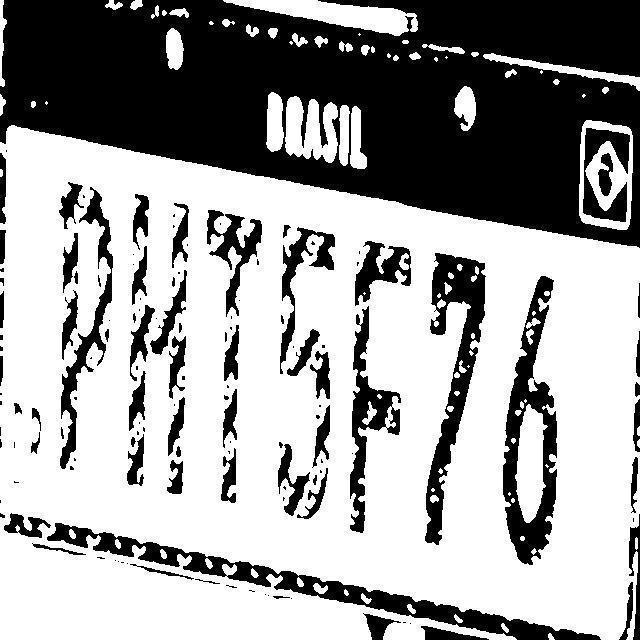5: (272, 213, 340, 530)
6: (497, 263, 562, 576)
7: (419, 241, 486, 559)
f: (348, 225, 414, 540)
h: (120, 177, 196, 500)
p: (51, 168, 114, 480)
t: (198, 194, 266, 506)
